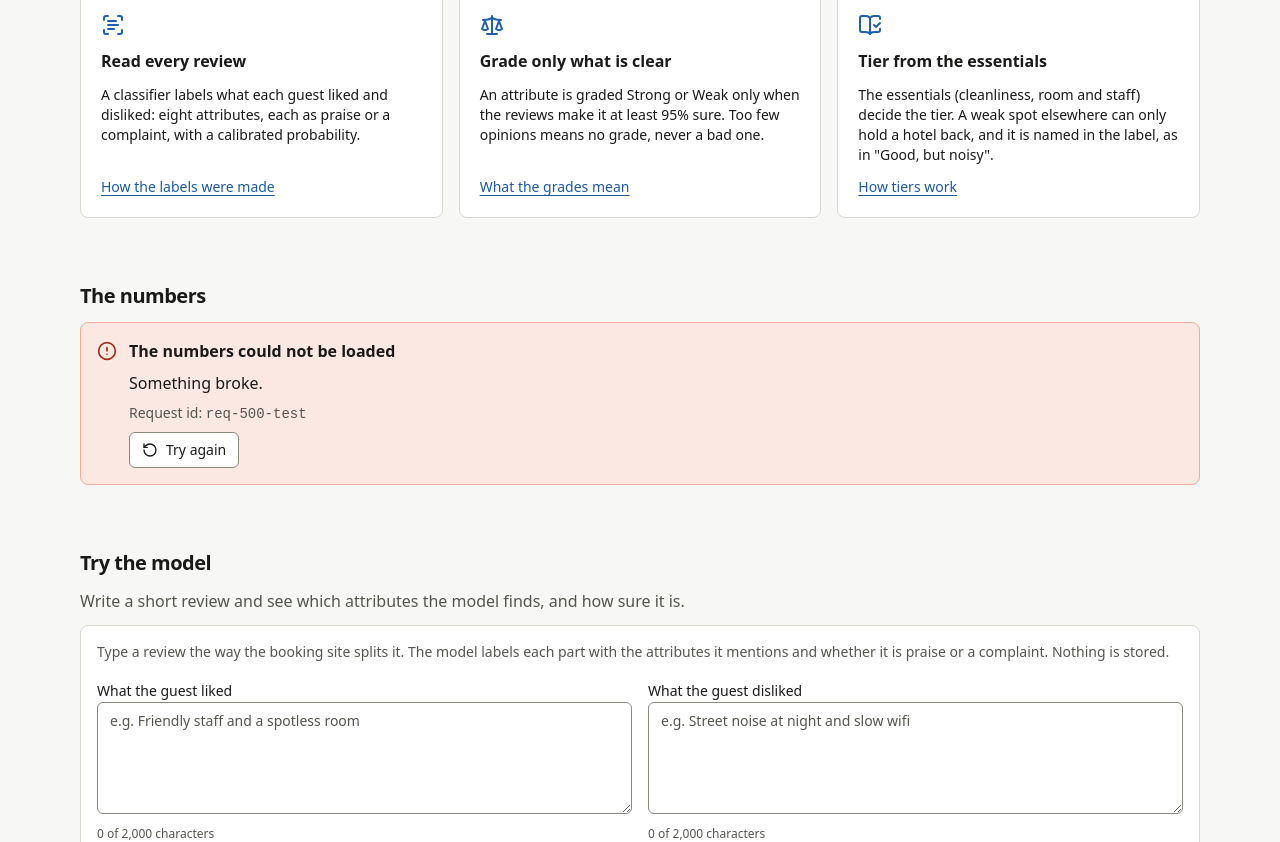
Test: Landing page › shows a loading state, then an error with a retry
(page scrolled)
Expected: the message shows "The numbers could not be loaded", [129, 340, 395, 362]
Expected: the message shows "req-500-test", [206, 406, 307, 422]
Click the button "Try again".
click(184, 450)  # box [129, 432, 239, 468]
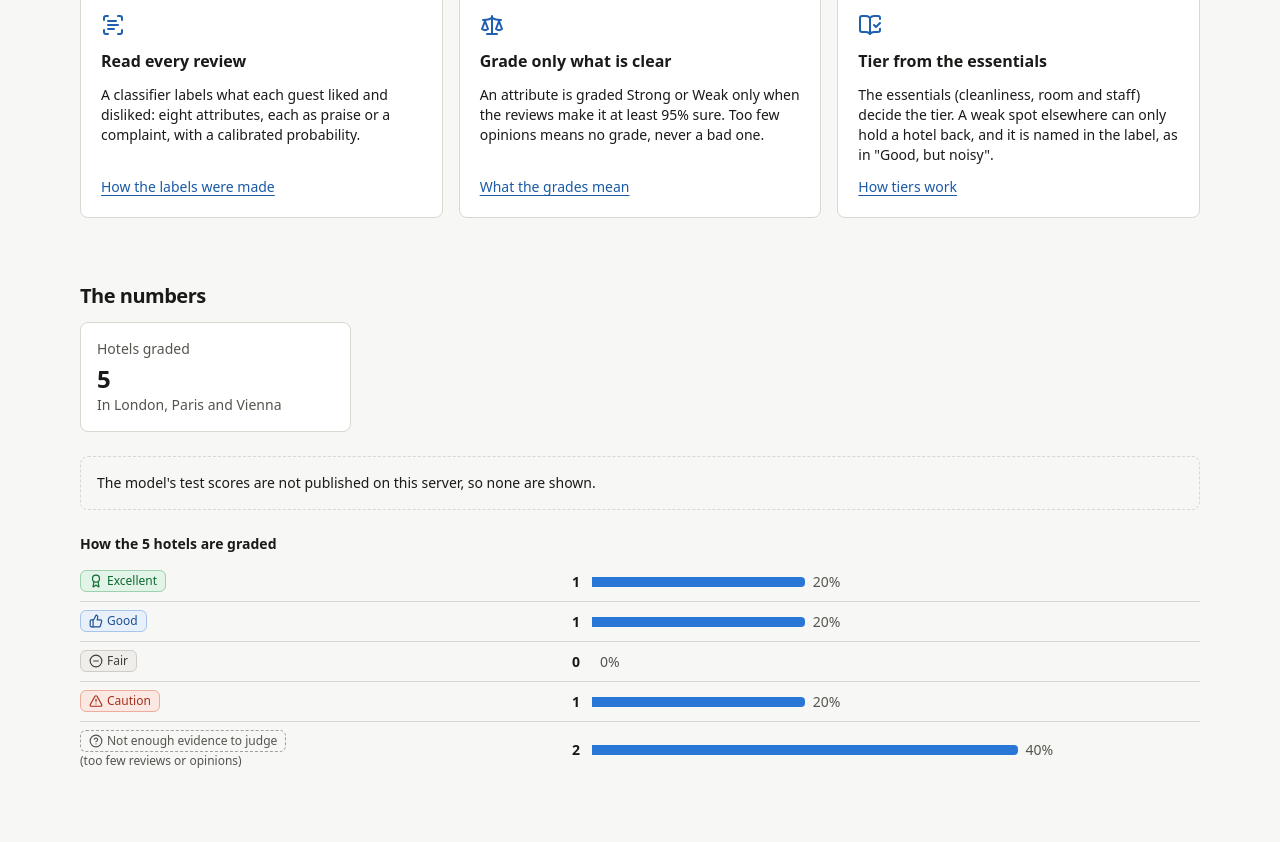
Now the text "Hotels graded" is shown, box [97, 339, 190, 358]
